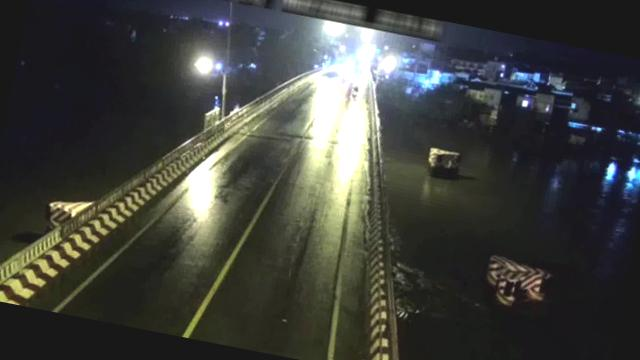Bike: (351, 80, 364, 100)
